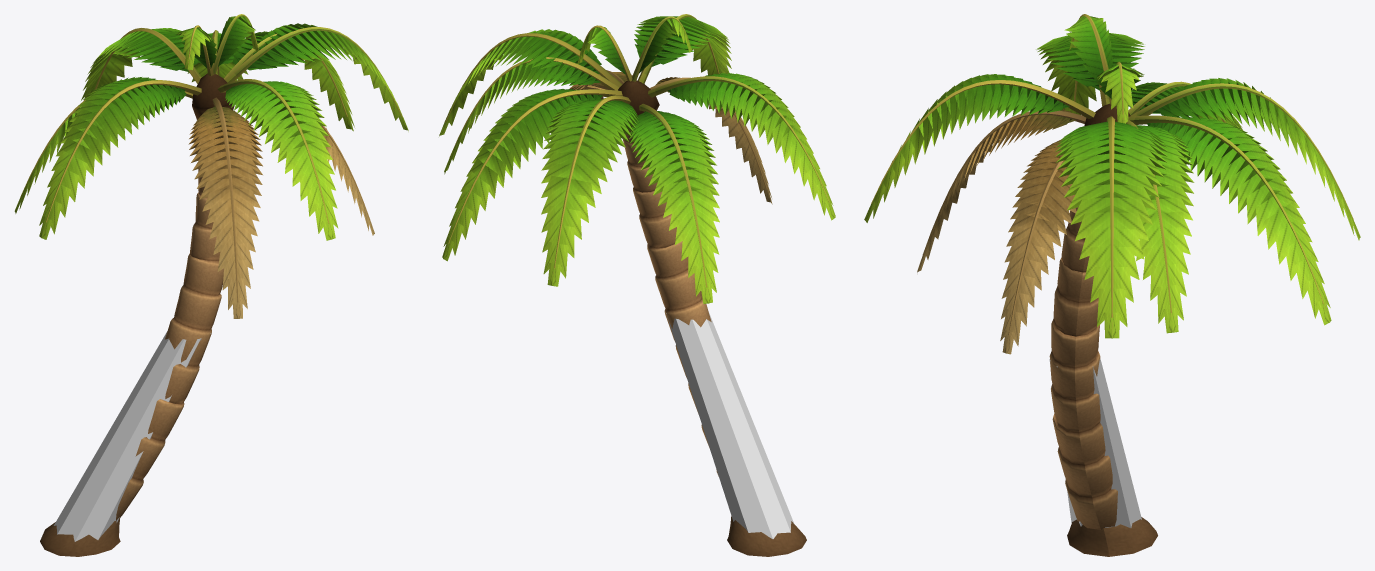
The model's file is IO_Palm_B.glb.
3 renders of one model, left to right at view 1: azimuth 30°, elevation 25°; view 2: azimuth 150°, elevation 25°; view 3: azimuth 270°, elevation 25°, orthographic. The views are drawn at different scales.
Parts seen in each view (by area): view 1: IO_Palm_B_LOD0, IO_Palm_B_COL; view 2: IO_Palm_B_LOD0, IO_Palm_B_COL; view 3: IO_Palm_B_LOD0, IO_Palm_B_COL.
Part boxes in pixels (<box>): IO_Palm_B_LOD0: <box>14,14,408,556</box>; IO_Palm_B_COL: <box>53,331,210,541</box>; IO_Palm_B_LOD0: <box>439,14,835,556</box>; IO_Palm_B_COL: <box>666,312,794,538</box>; IO_Palm_B_LOD0: <box>864,14,1360,556</box>; IO_Palm_B_COL: <box>1049,359,1141,527</box>.
Size of what is drawn, in the model's own units: 5.4 by 6.67 by 5.14.
Materials: 3 (3 with a texture image).
